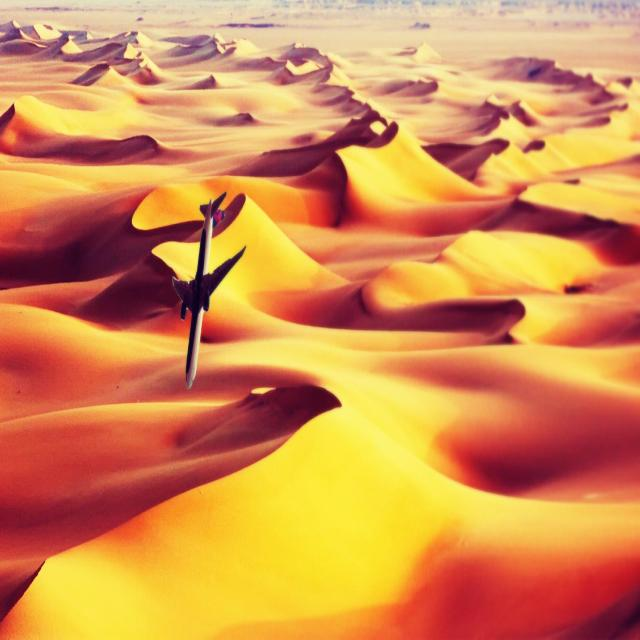airplane: (150, 190, 247, 389)
